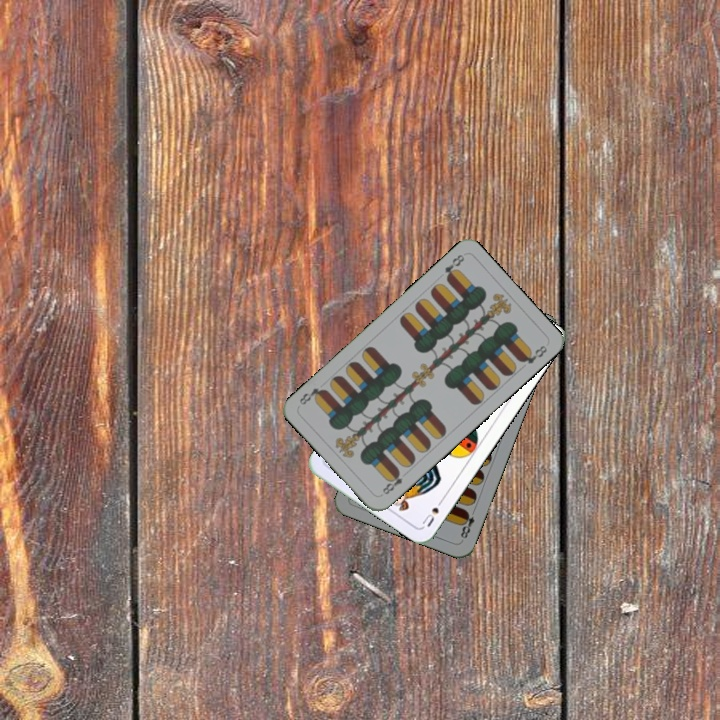E8: (440, 250, 467, 283), (456, 504, 479, 541), (378, 466, 405, 497)
SU: (418, 493, 447, 530)
